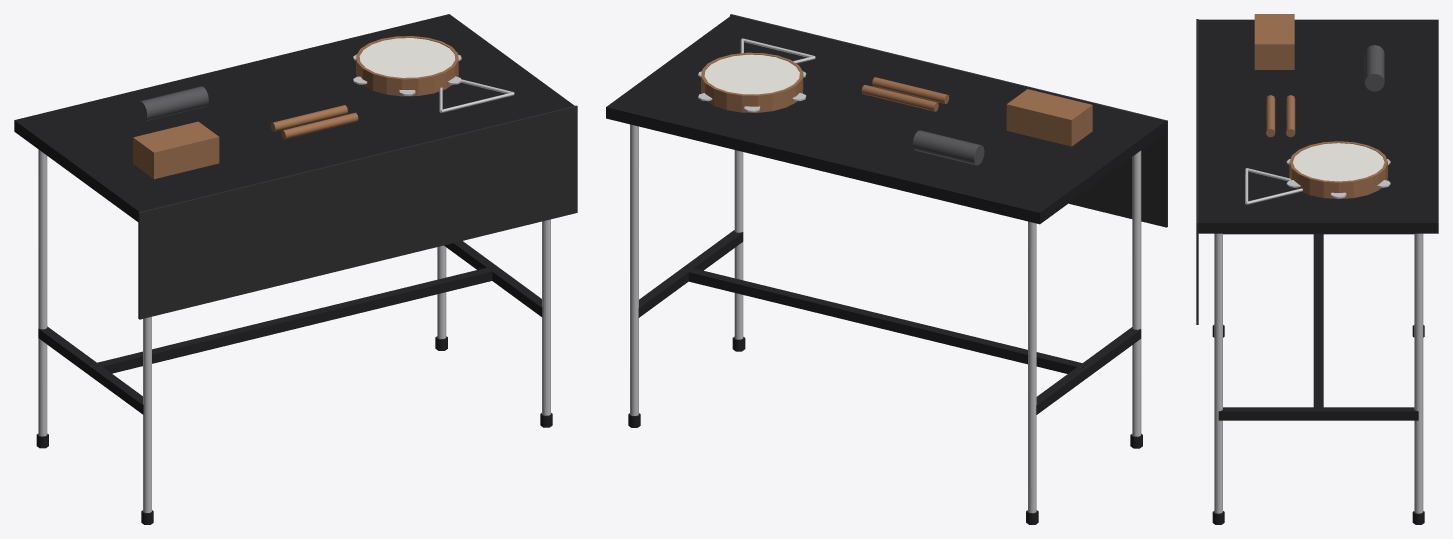
The model's file is trap-table.glb.
3 views of the same model, side by side, from view 1: azimuth 30°, elevation 25°; view 2: azimuth 150°, elevation 25°; view 3: azimuth 270°, elevation 25° (orthographic). The views are drawn at different scales.
Visible parts, largest first — view 1: frame, cloth, metal, wood, head, panel; view 2: frame, metal, wood, cloth, head, panel; view 3: frame, metal, wood, head, cloth, panel.
Part boxes in pixels (x1,y1,x2,y2): frame: (14,14,574,524); cloth: (138,105,577,319); metal: (38,54,550,512); wood: (133,36,458,179); head: (359,38,455,77); panel: (136,86,208,121); frame: (606,15,1165,524); metal: (630,38,1141,513); wood: (701,52,1092,146); cloth: (730,14,1167,227); head: (704,54,799,94); panel: (912,130,984,165); frame: (1198,19,1438,524); metal: (1214,159,1423,513); wood: (1254,14,1387,198); head: (1293,143,1384,181); cloth: (1196,19,1198,324); panel: (1364,45,1384,91).
Bounding box in the file's own units: 1.21 × 0.922 × 0.606.
